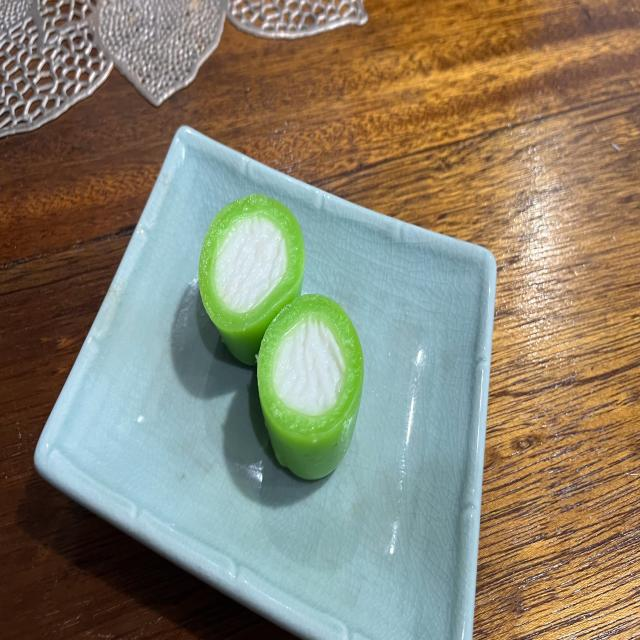nona-manis: (258, 293, 364, 480), (199, 193, 305, 364)
